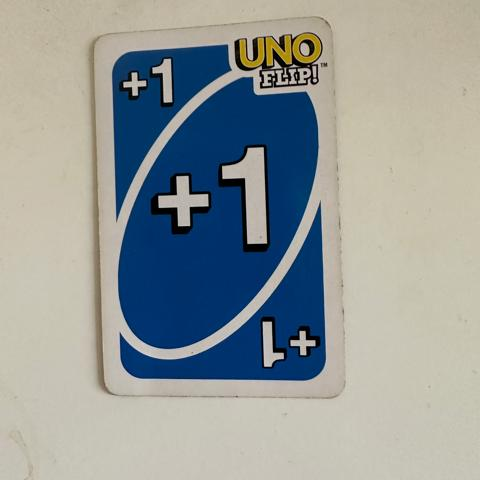lblue-10: (107, 44, 191, 134)
